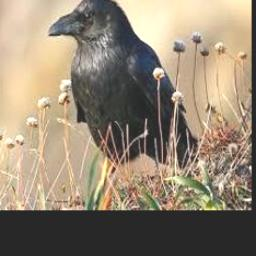Crow: (48, 0, 198, 171)
